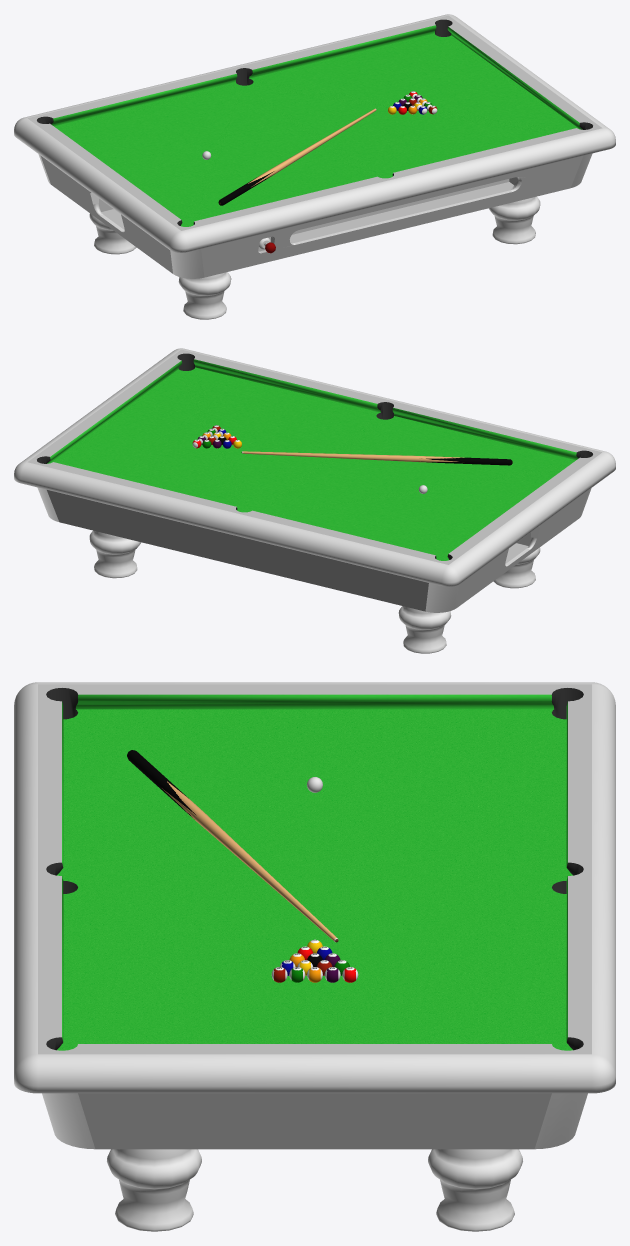
Rendered from PoolTable.fbx.
3 views of the same model, one above another, from view 1: azimuth 30°, elevation 25°; view 2: azimuth 150°, elevation 25°; view 3: azimuth 270°, elevation 25° (orthographic). The views are drawn at different scales.
Visible parts, largest first — view 1: Cube, Cylinder, Queue; view 2: Cube, Cylinder, Queue; view 3: Cube, Cylinder, Queue.
Boxes of the visible parts, <box> form: Cube: <box>14,14,615,278</box>; Cylinder: <box>89,196,540,319</box>; Queue: <box>218,108,376,205</box>; Cube: <box>14,348,615,612</box>; Cylinder: <box>89,530,540,653</box>; Queue: <box>241,451,512,465</box>; Cube: <box>14,682,615,1149</box>; Cylinder: <box>107,1149,522,1231</box>; Queue: <box>127,750,338,942</box>.
Bounding box in the file's own units: 575 × 145 × 375.
